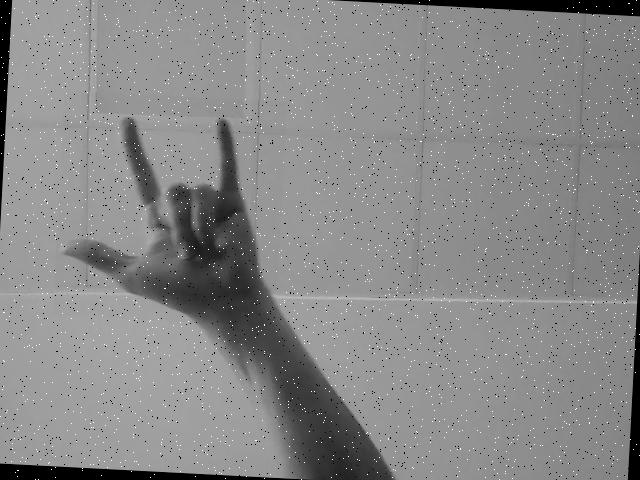I_Love_You: (58, 99, 279, 323)
